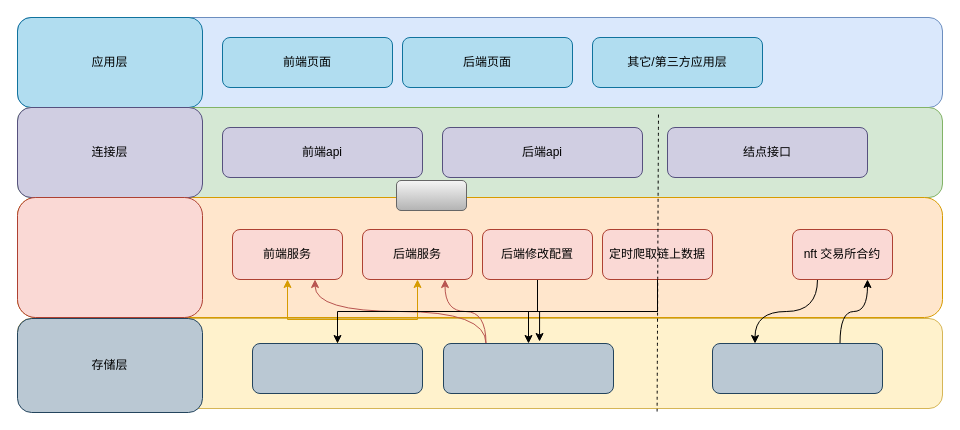
Image size: 960x430. Some labels were removed from this diagram. Each missing label, with the box of its shape:
leveldb: (712, 342, 882, 394)
mysql: (442, 342, 614, 394)
redis: (252, 342, 422, 394)
router: (396, 180, 466, 210)
服务层: (16, 196, 202, 318)
